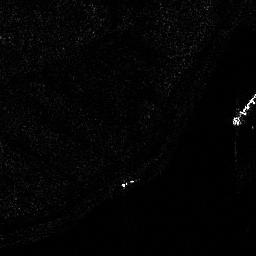ship: (233, 92, 256, 126)
